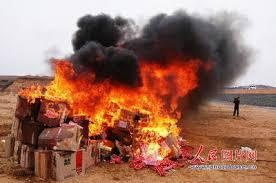fire: (35, 51, 199, 155)
